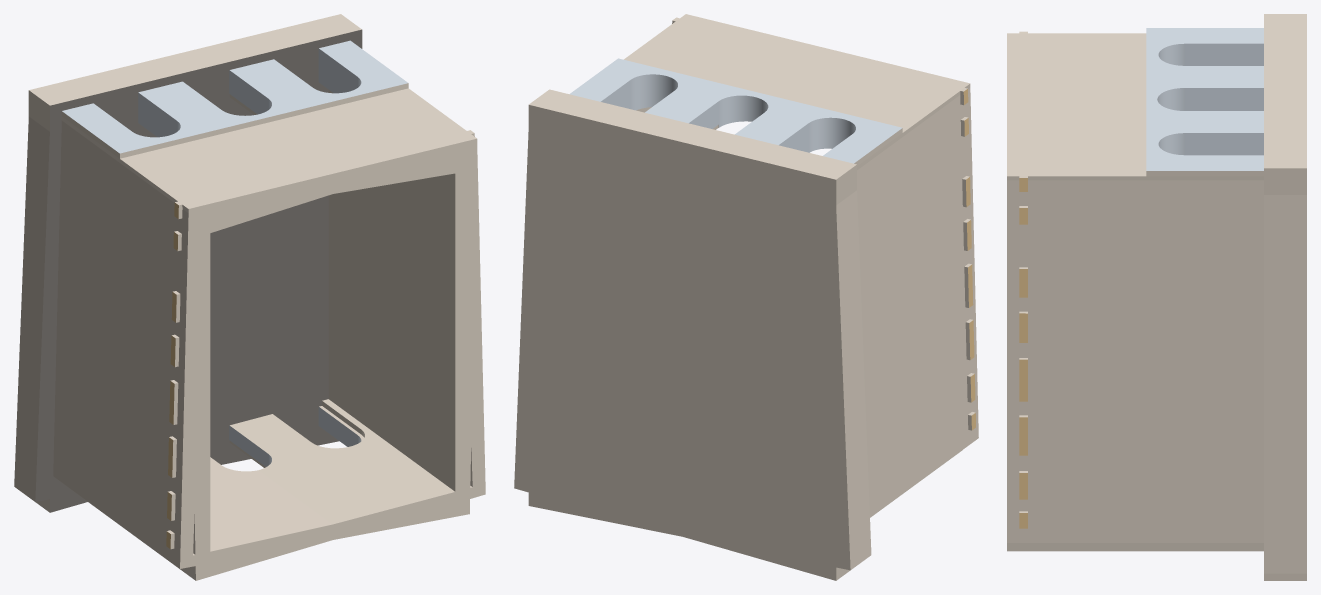
File: Courtyard_01.gltf
3 renders of one model, left to right at view 1: azimuth 30°, elevation 25°; view 2: azimuth 150°, elevation 25°; view 3: azimuth 270°, elevation 25°, orthographic. The views are drawn at different scales.
Parts seen in each view (by area): view 1: Part 1; view 2: Part 1; view 3: Part 1.
Part boxes in pixels (x1=…): Part 1: x1=14, y1=14, x2=485, y2=580; Part 1: x1=514, y1=14, x2=978, y2=580; Part 1: x1=1007, y1=14, x2=1306, y2=580.
Size of the model in its own units: 0.1394 by 0.1589 by 0.1046.
